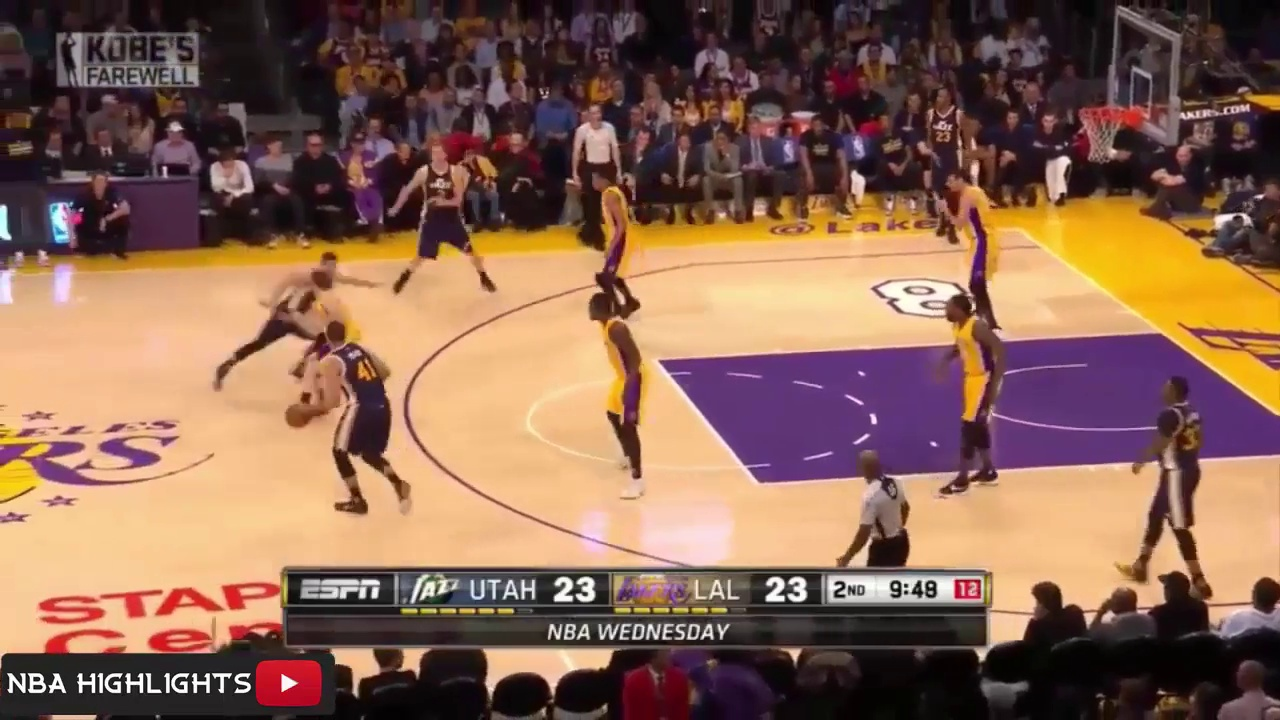jazz: (297, 334, 414, 514), (1132, 364, 1216, 596), (222, 253, 346, 378), (400, 144, 501, 293), (918, 88, 972, 226)
lakers: (572, 285, 658, 495), (932, 294, 1007, 497), (927, 167, 1010, 326), (579, 167, 643, 321), (312, 270, 363, 350)
